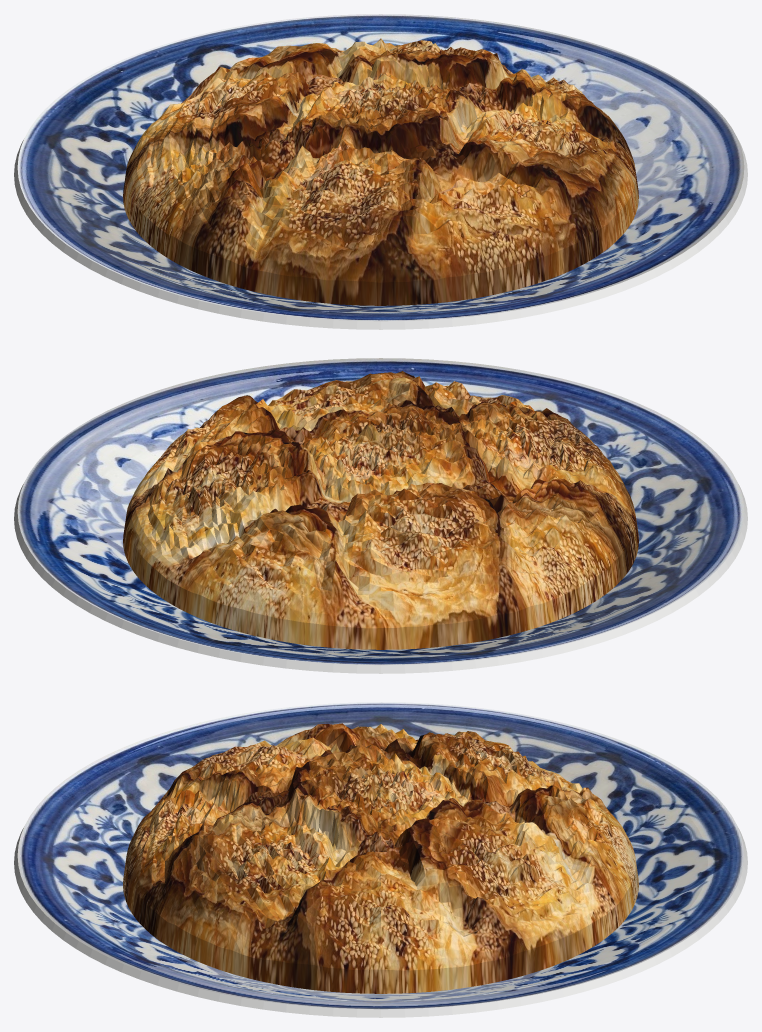
Rendered from somsa.glb.
3 renders of one model, top to bottom at view 1: azimuth 30°, elevation 25°; view 2: azimuth 150°, elevation 25°; view 3: azimuth 270°, elevation 25°, orthographic.
Parts seen in each view (by area): view 1: somsa_2, somsa_0, somsa_1; view 2: somsa_2, somsa_0, somsa_1; view 3: somsa_2, somsa_0, somsa_1.
Boxes of the visible parts, x1=… form: somsa_2: x1=123, y1=38, x2=638, y2=305; somsa_0: x1=17, y1=14, x2=744, y2=321; somsa_1: x1=14, y1=140, x2=747, y2=329; somsa_2: x1=123, y1=371, x2=638, y2=649; somsa_0: x1=17, y1=358, x2=744, y2=665; somsa_1: x1=14, y1=484, x2=747, y2=673; somsa_2: x1=123, y1=723, x2=638, y2=993; somsa_0: x1=17, y1=702, x2=744, y2=1009; somsa_1: x1=14, y1=828, x2=747, y2=1017.
Size of the model in its own units: 0.2828 by 0.0559 by 0.2828.
Materials: 3 (2 with a texture image).
